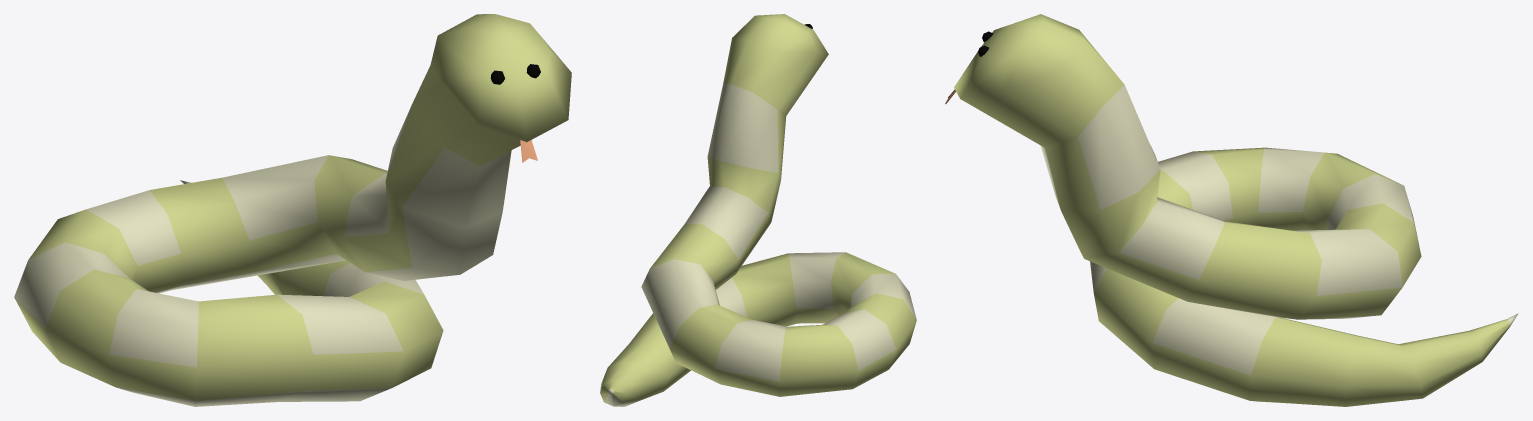
The model's file is snaek.fbx.
3 renders of one model, left to right at view 1: azimuth 30°, elevation 25°; view 2: azimuth 150°, elevation 25°; view 3: azimuth 270°, elevation 25°, orthographic. The views are drawn at different scales.
Parts seen in each view (by area): view 1: pCylinder2; view 2: pCylinder2; view 3: pCylinder2.
Boxes of the visible parts, bbox=[...] form: pCylinder2: bbox=[14, 14, 571, 406]; pCylinder2: bbox=[600, 14, 916, 406]; pCylinder2: bbox=[945, 14, 1518, 406].
Size of the model in its own units: 4.18 by 4.7 by 6.4.
